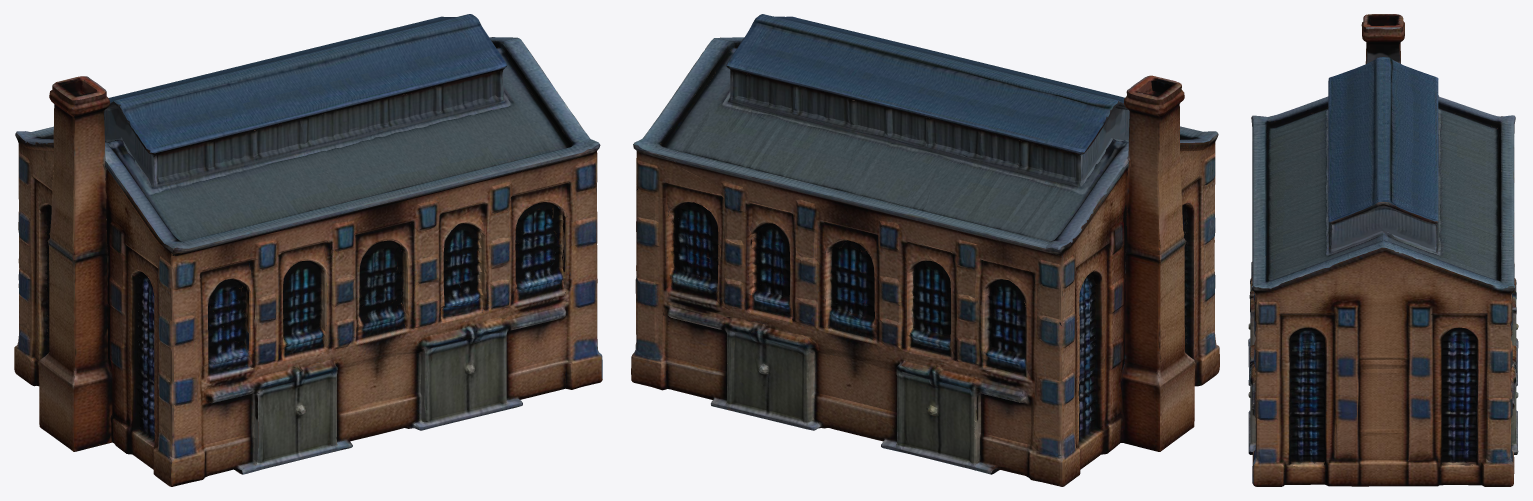
Rendered from town_foundry.glb.
3 views of the same model, side by side, from view 1: azimuth 30°, elevation 25°; view 2: azimuth 150°, elevation 25°; view 3: azimuth 270°, elevation 25° (orthographic). The views are drawn at different scales.
Visible parts, largest first — view 1: TownFoundry; view 2: TownFoundry; view 3: TownFoundry.
Boxes of the visible parts, x1=… form: TownFoundry: x1=14, y1=14, x2=602, y2=486; TownFoundry: x1=631, y1=14, x2=1219, y2=486; TownFoundry: x1=1248, y1=14, x2=1518, y2=486.
Bounding box in the file's own units: 21.07 × 15 × 12.73.
1 material, 1 textured.
